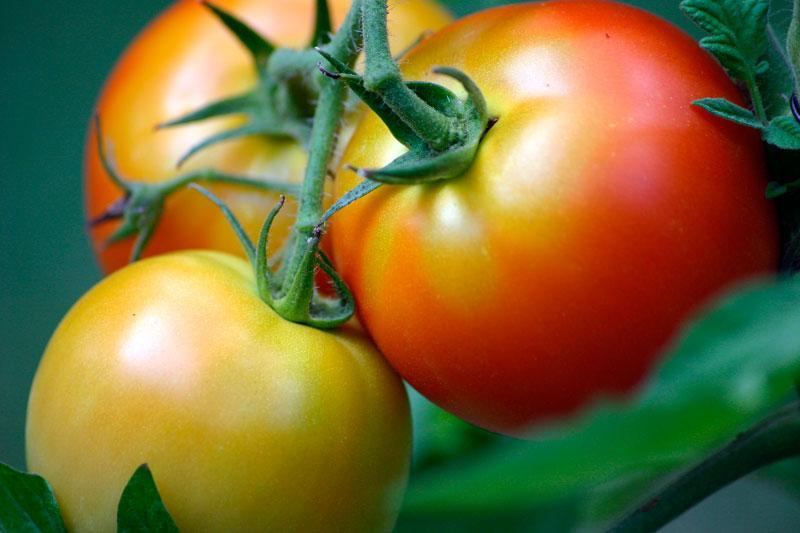healthy-tomato: (313, 3, 776, 441), (89, 1, 449, 267)
